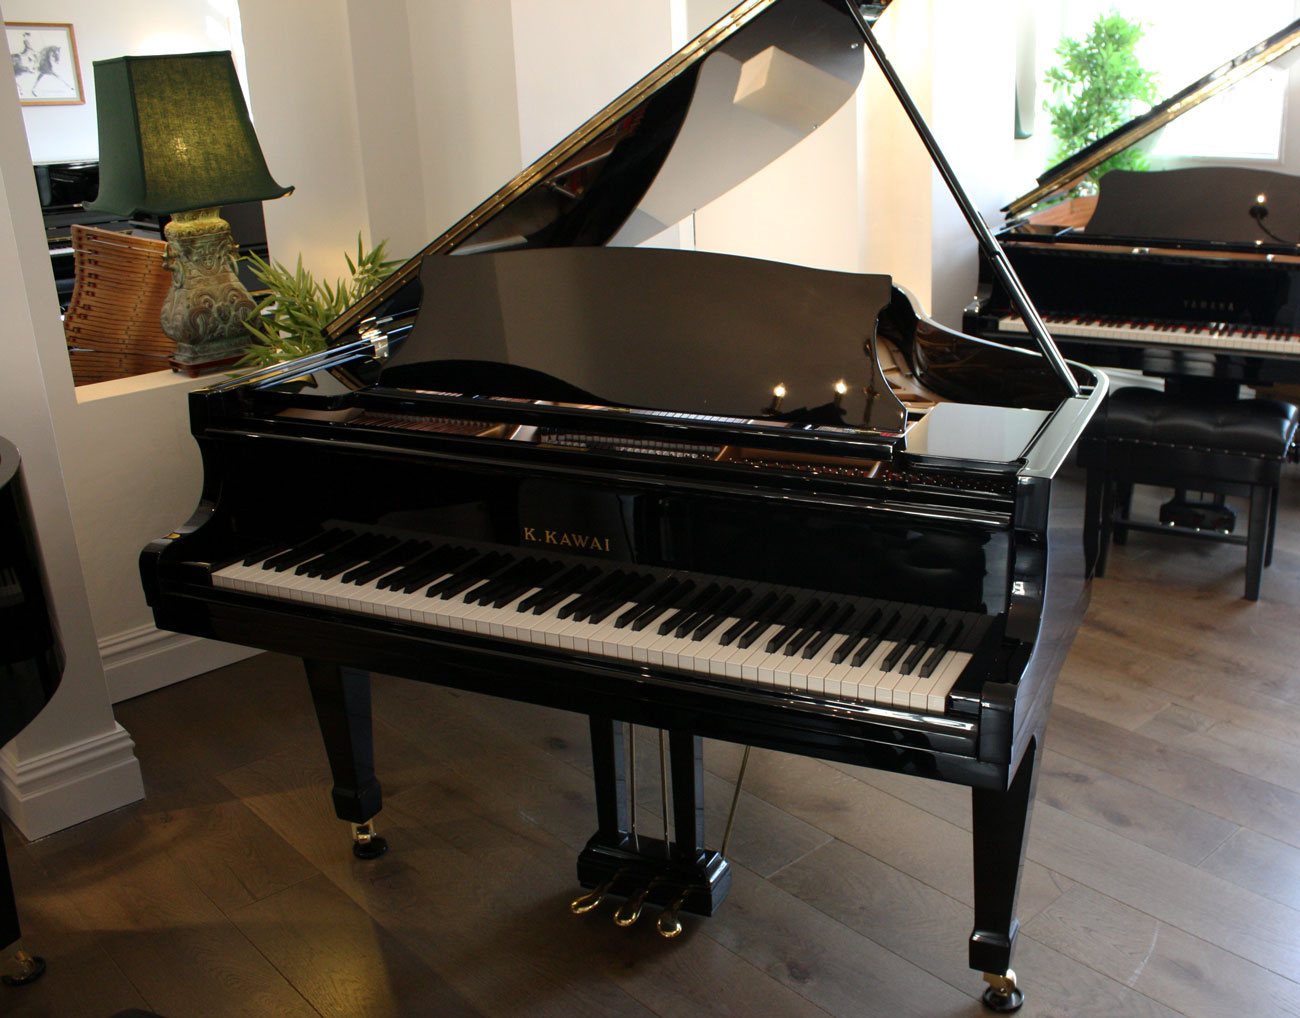GrandPiano: (178, 254, 1136, 775)
